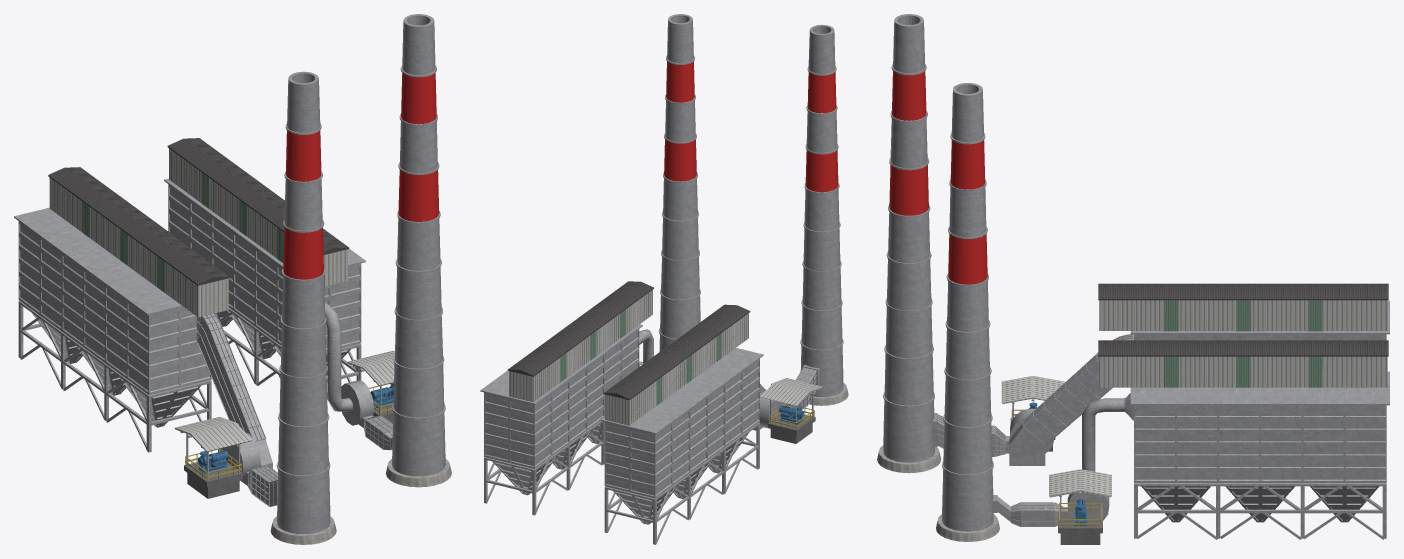
File: C2C4除尘设施.glb
3 renders of one model, left to right at view 1: azimuth 30°, elevation 25°; view 2: azimuth 150°, elevation 25°; view 3: azimuth 270°, elevation 25°, orthographic. The views are drawn at different scales.
Visible parts, largest first — view 1: C2C4除尘设施002, C2C4除尘设施001, C2C4除尘设施004, C2C4除尘设施005, C2C4除尘设施008, C2C4除尘设施003, C2C4除尘设施009, C2C4除尘设施006, C2C4除尘设施007; view 2: C2C4除尘设施002, C2C4除尘设施001, C2C4除尘设施004, C2C4除尘设施005, C2C4除尘设施003, C2C4除尘设施009; view 3: C2C4除尘设施002, C2C4除尘设施001, C2C4除尘设施004, C2C4除尘设施005, C2C4除尘设施003, C2C4除尘设施008, C2C4除尘设施009.
Boxes of the visible parts, x1,y1,x2,y2 form: C2C4除尘设施002: [14, 14, 445, 534]; C2C4除尘设施001: [49, 148, 394, 451]; C2C4除尘设施004: [48, 138, 349, 285]; C2C4除尘设施005: [283, 73, 439, 279]; C2C4除尘设施008: [270, 459, 451, 544]; C2C4除尘设施003: [83, 173, 283, 292]; C2C4除尘设施009: [184, 399, 393, 498]; C2C4除尘设施006: [197, 382, 393, 474]; C2C4除尘设施007: [185, 383, 393, 481]; C2C4除尘设施002: [480, 14, 843, 544]; C2C4除尘设施001: [509, 290, 822, 425]; C2C4除尘设施004: [507, 281, 750, 400]; C2C4除尘设施005: [664, 61, 838, 192]; C2C4除尘设施003: [560, 309, 721, 405]; C2C4除尘设施009: [768, 414, 815, 443]; C2C4除尘设施002: [883, 14, 1389, 539]; C2C4除尘设施001: [1001, 300, 1387, 497]; C2C4除尘设施004: [1098, 283, 1388, 356]; C2C4除尘设施005: [889, 71, 987, 284]; C2C4除尘设施003: [1164, 300, 1322, 387]; C2C4除尘设施008: [877, 445, 999, 541]; C2C4除尘设施009: [1010, 418, 1102, 544].
Size of the model in its own units: 19.29 by 33.74 by 35.68.
Materials: 9 (8 with a texture image).
